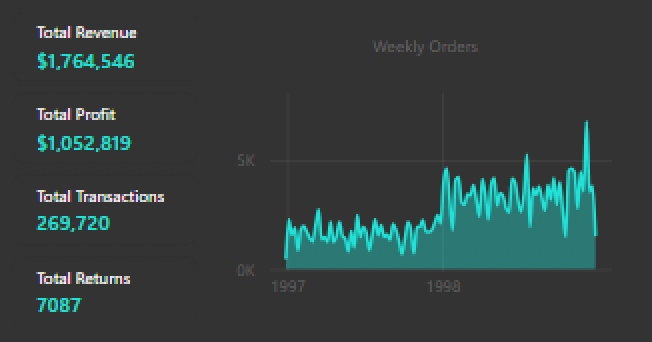

What the dashboard file says about the page in this screenshot:
{"tool":"powerbi","page":{"name":"Category Tooltip","canvas":[425,225],"ordinal":4},"visuals":[{"type":"cardVisual","fields":{"Data":["Measure Table (DAX).Total Revenue","Measure Table (DAX).Total Profit","Measure Table (DAX).Total Transactions","Measure Table (DAX).Total Returns"]},"box":[9,9,121,207],"z":0},{"type":"lineChart","title":"Weekly Orders","fields":{"Category":["Calendar.Start of Week"],"Y":["Measure Table (DAX).Total Transactions"]},"box":[139,9,277,207],"z":1}]}

Visuals, with their boxes in screenshot pixels (x1, y1, x2, y2), scaled from the page's 425x225 canvas onto the 652x342 screenshot:
cardVisual - Measure Table (DAX).Total Revenue x Measure Table (DAX).Total Profit: [14,14,199,328]
"Weekly Orders" lineChart: [213,14,638,328]
